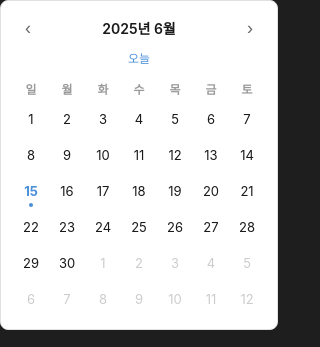
Test: Calendar › navigation › navigates to previous month
Click the button named "이전 달" at coordinates (28, 28), box [13,13,43,43]
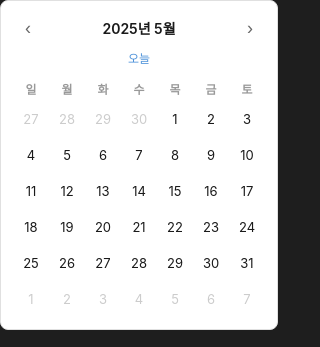
Result: the text "2025년 5월" is shown at [102,18,176,38]
